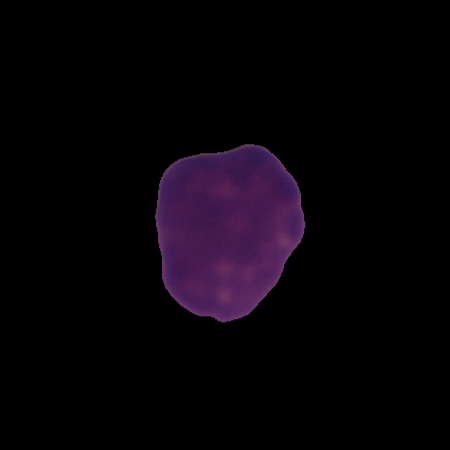HEM: (152, 140, 308, 324)
